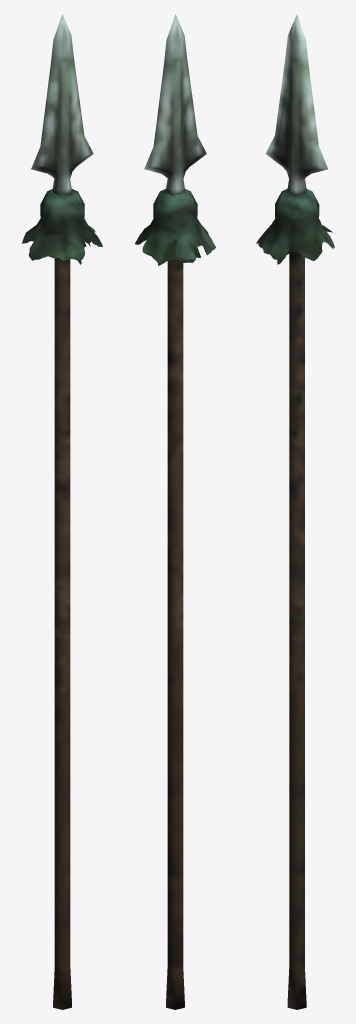
Rendered from weapon-sacrament-s-sin.glb.
3 views of the same model, side by side, from view 1: azimuth 30°, elevation 25°; view 2: azimuth 210°, elevation 25°; view 3: azimuth 330°, elevation 25° (orthographic).
Visible parts, largest first — view 1: spearC_MDL_q; view 2: spearC_MDL_q; view 3: spearC_MDL_q.
Boxes of the visible parts, <box> form: spearC_MDL_q: <box>22,14,102,1009</box>; spearC_MDL_q: <box>135,14,215,1009</box>; spearC_MDL_q: <box>256,14,334,1009</box>.
Size of the model in its own units: 0.2788 by 3.12 by 0.2463.
Materials: 1 (1 with a texture image).
